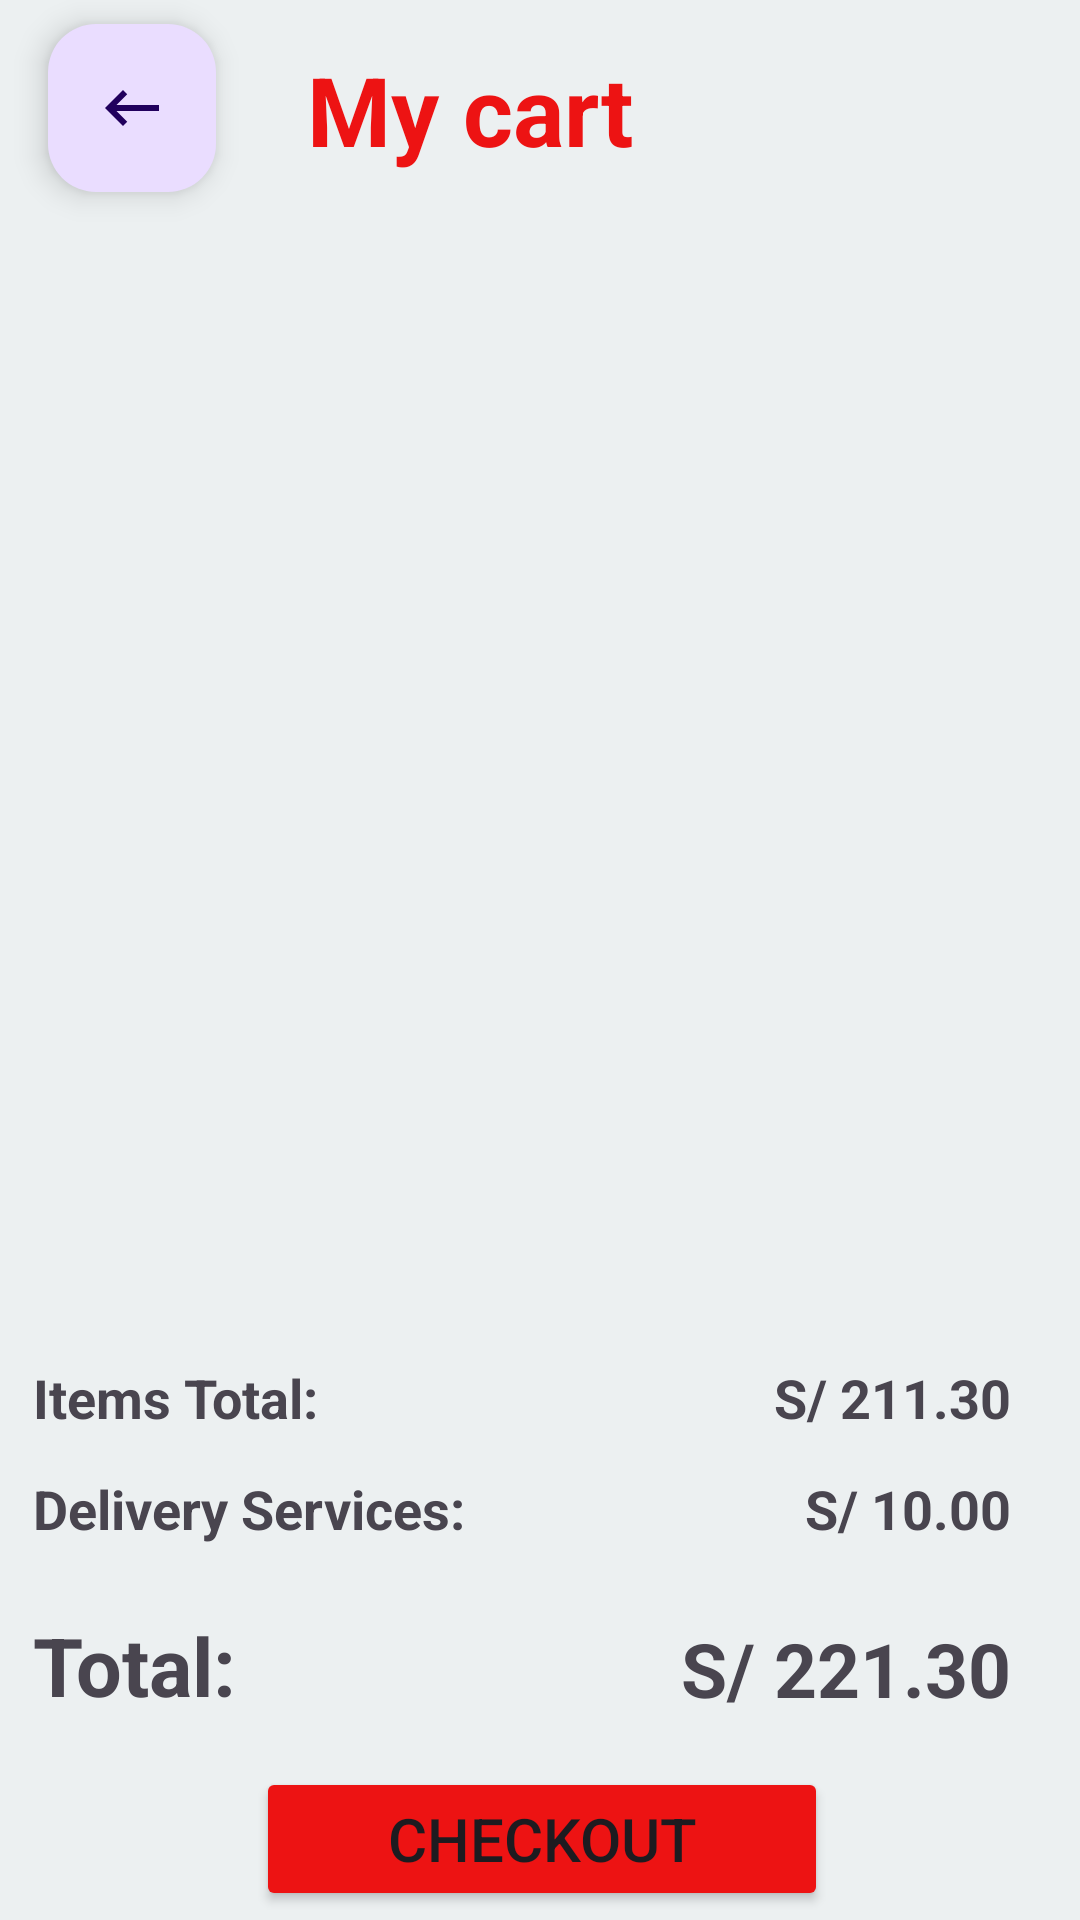

Screen size 1080 x 1920. Icon name, then its center in pixels as point (x, y):
regresar: point (132, 108)
